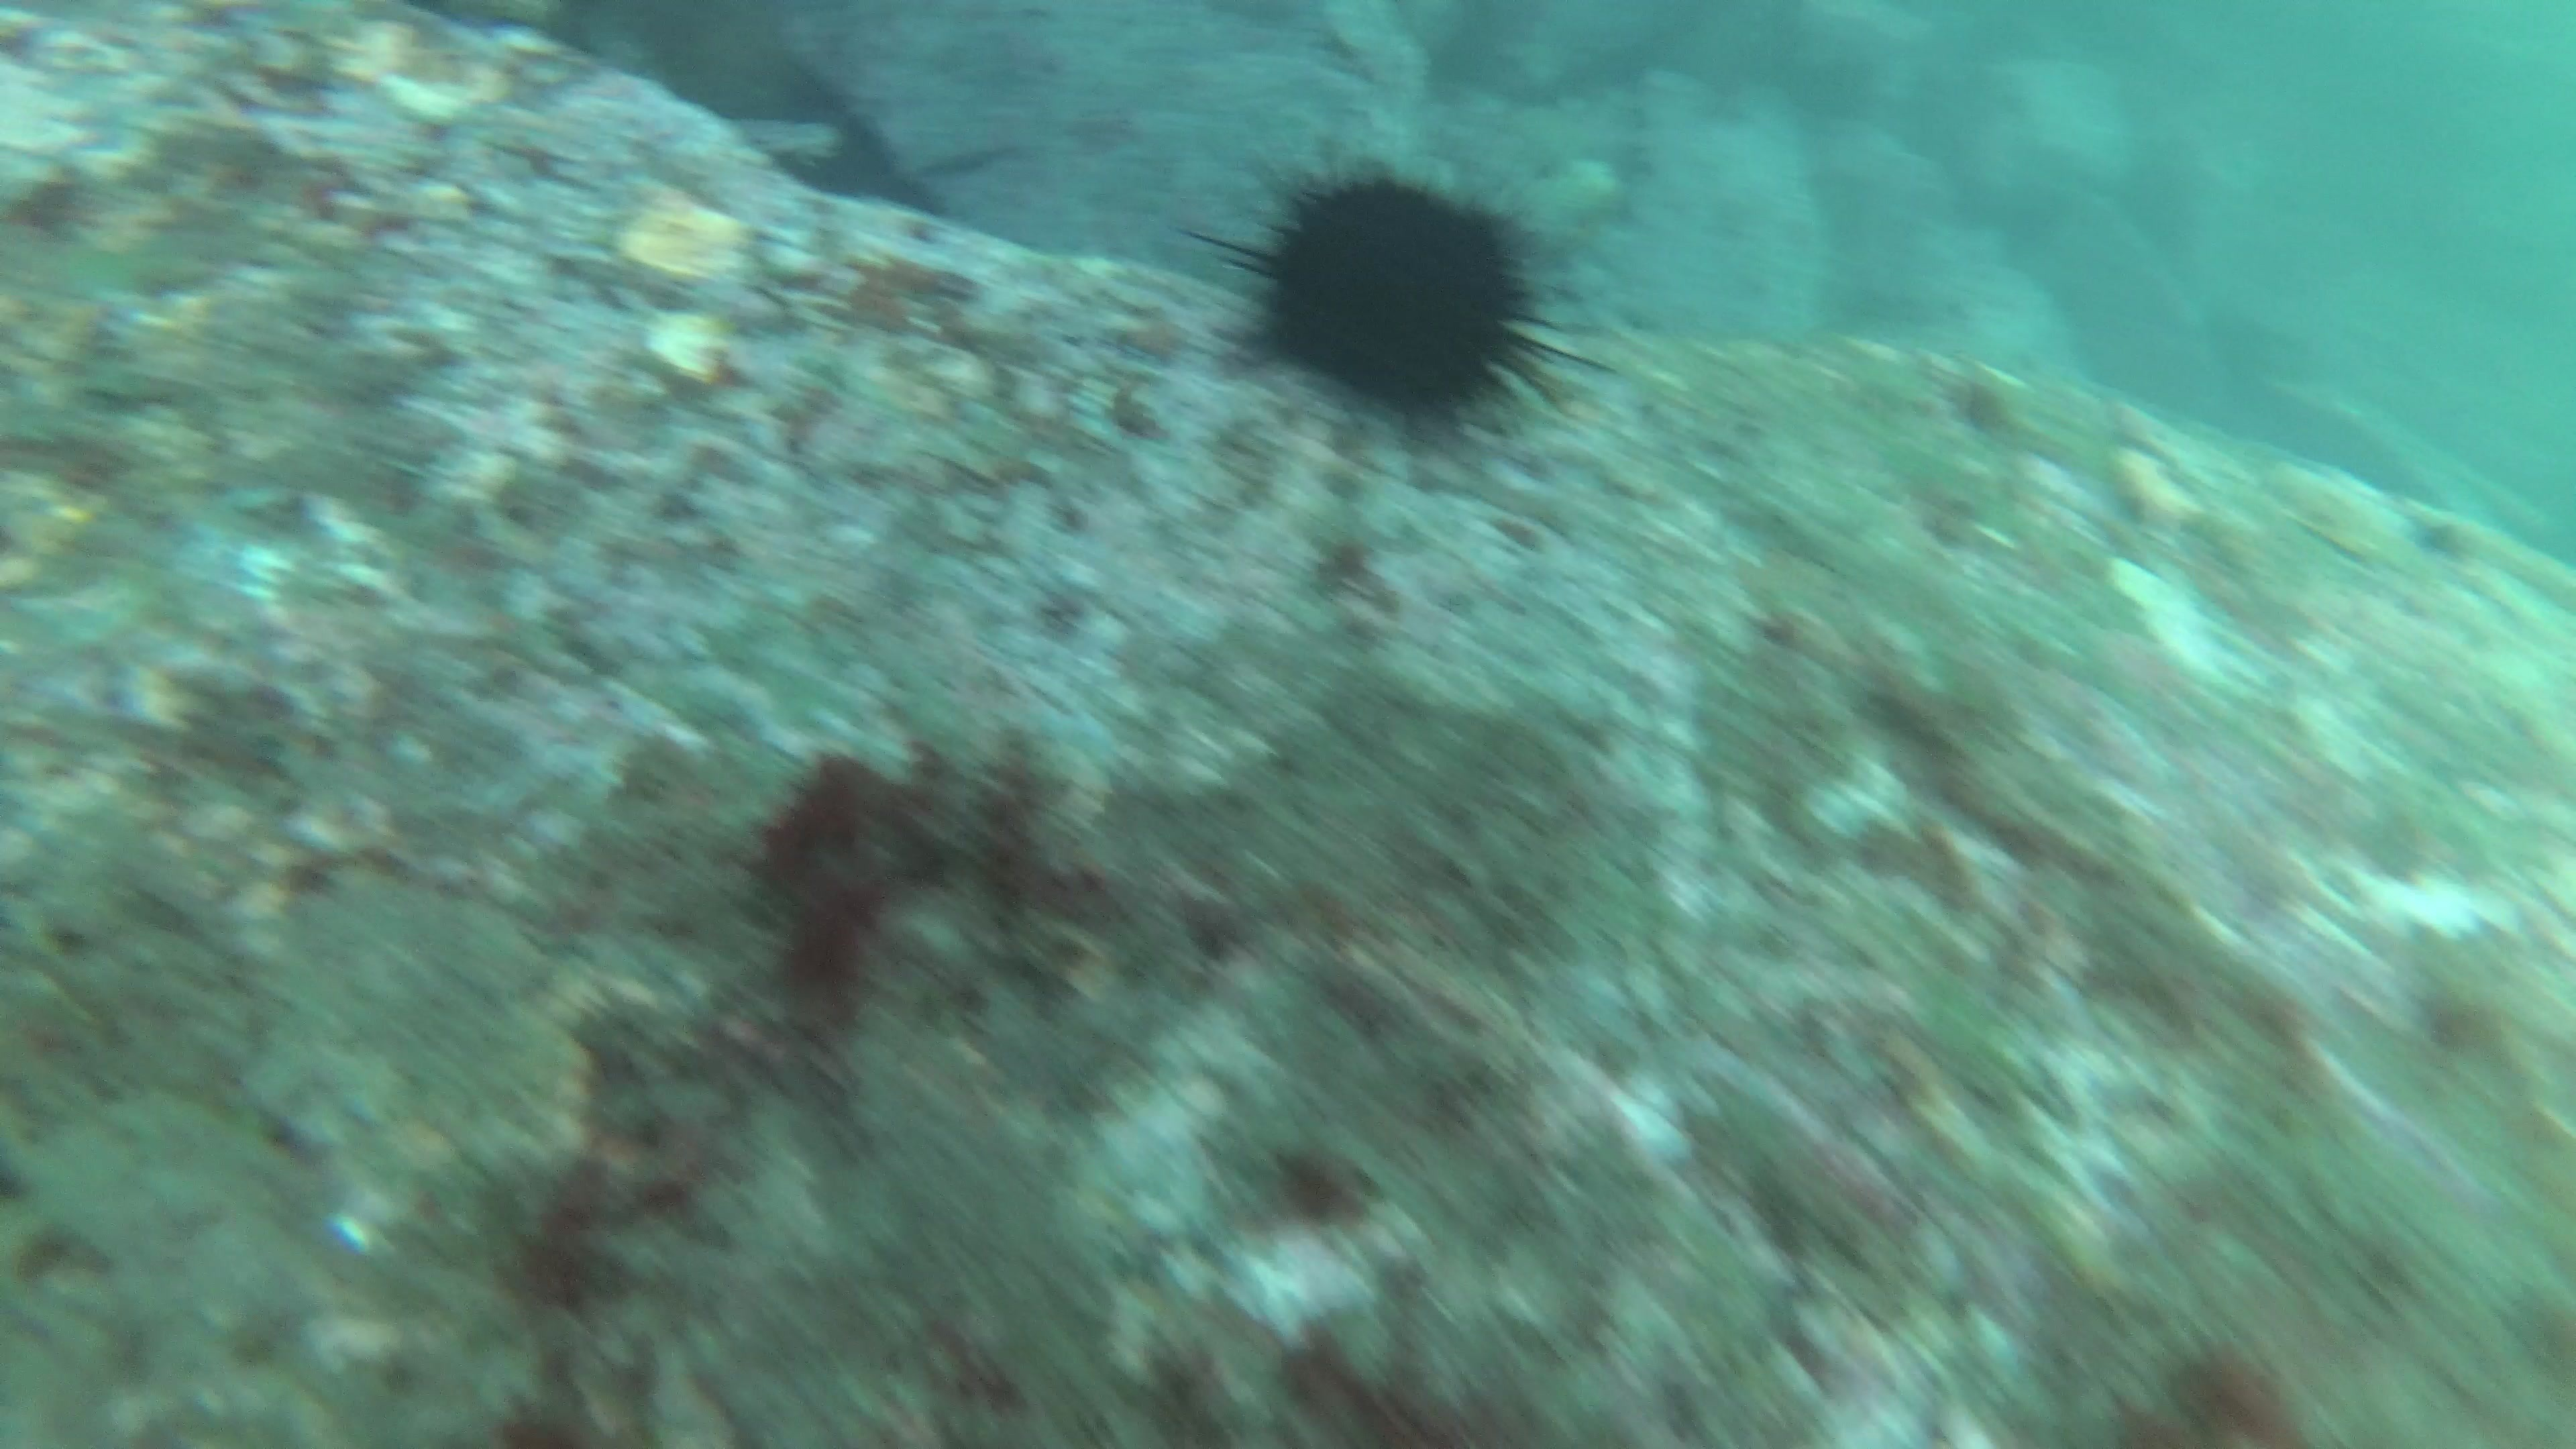echinus: (1207, 143, 1585, 441)
